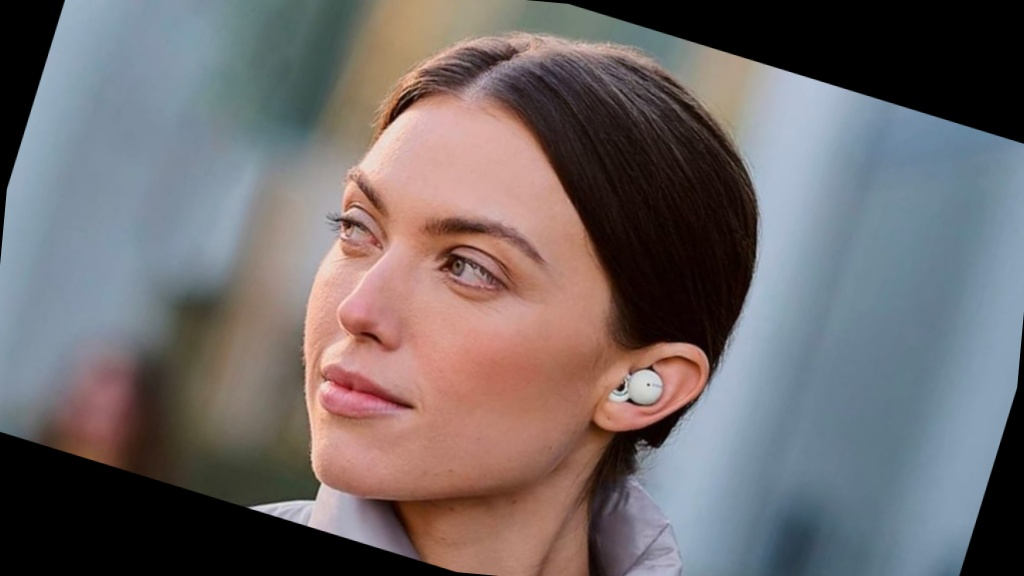earphone: (584, 320, 718, 457)
